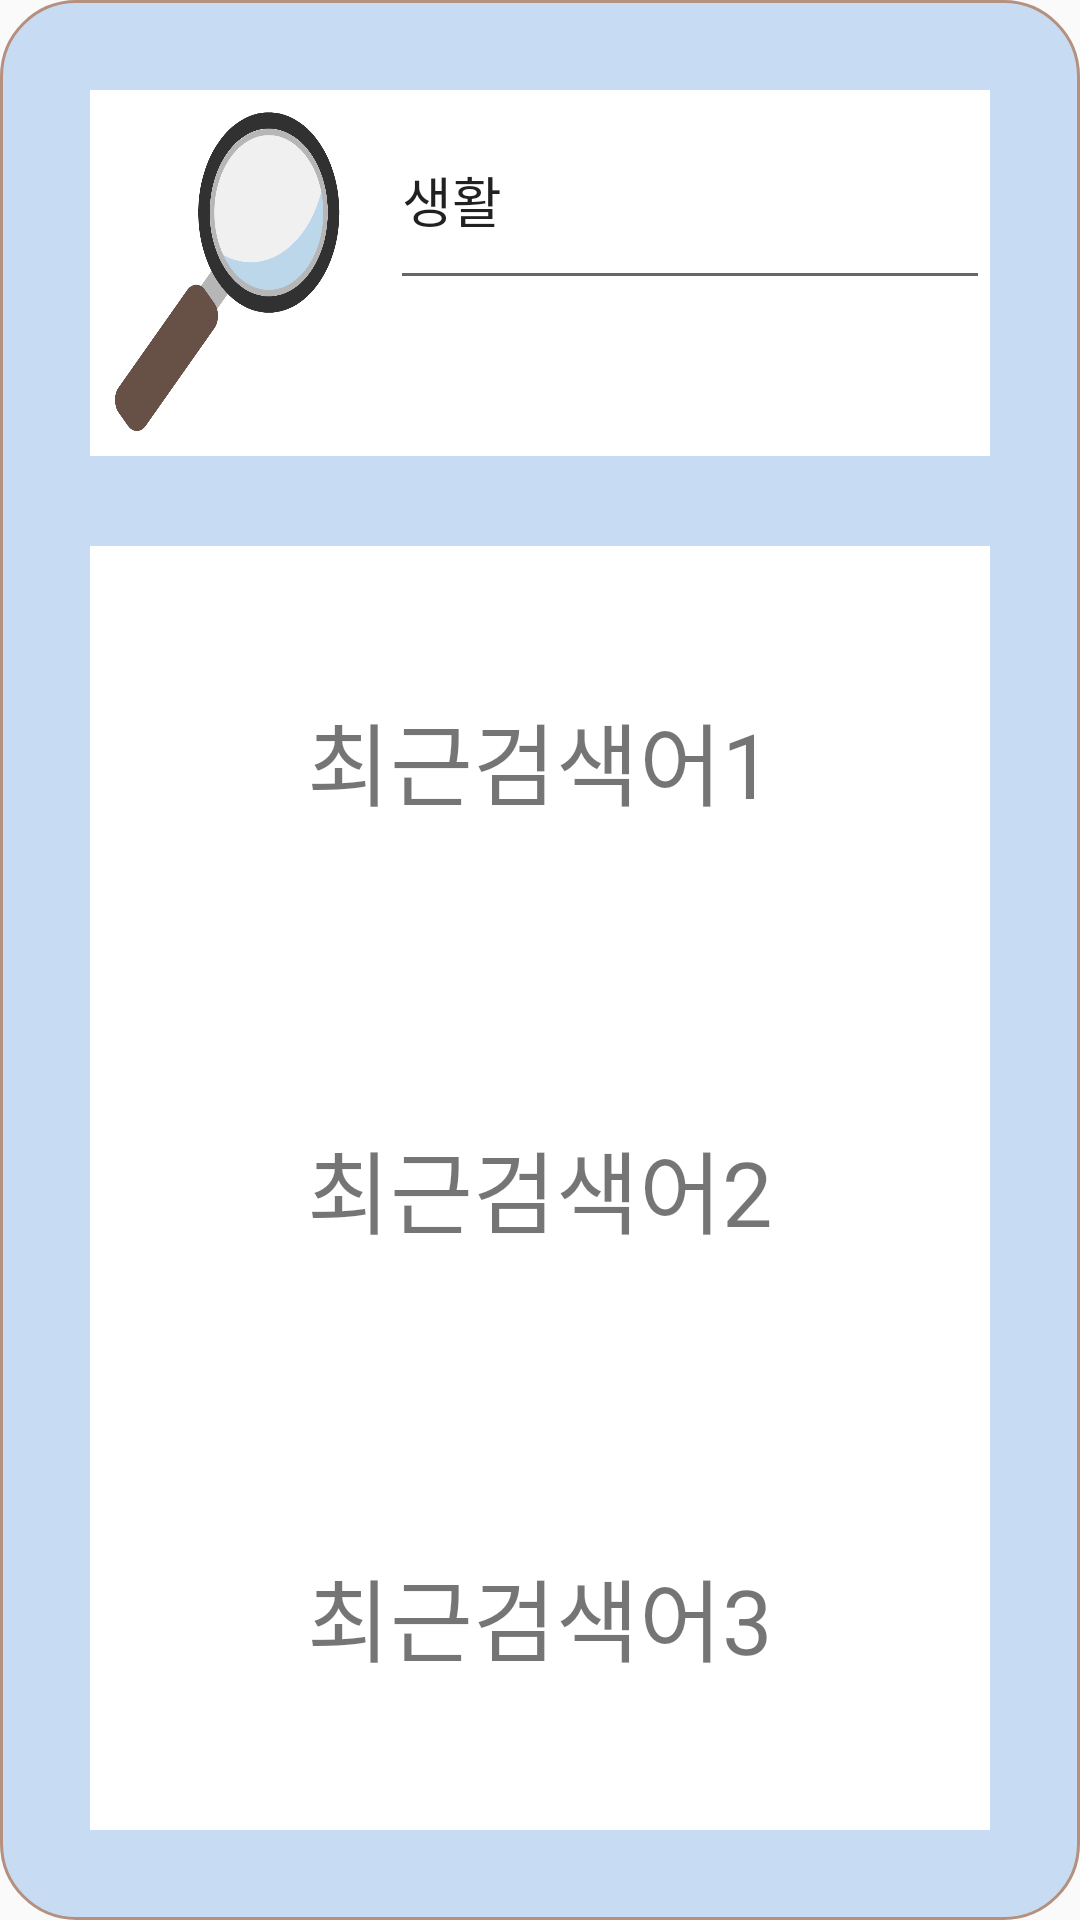

Screen size 1080×1920. Icon name, then its box in pixels as (x1, y1, x2, y2):
lenz: (115, 112, 340, 431)
